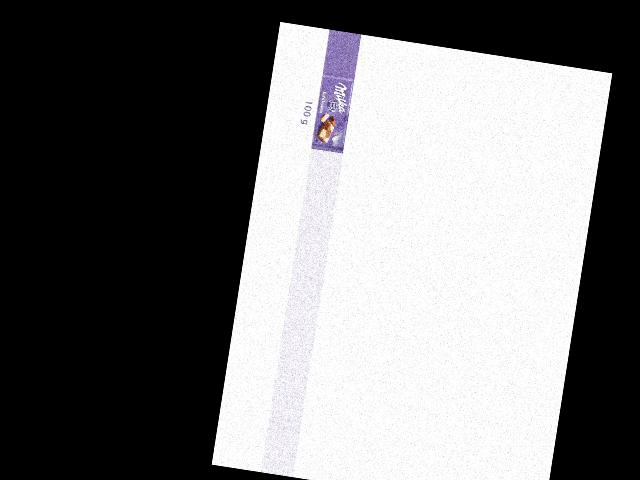chocolate: (309, 72, 354, 153)
